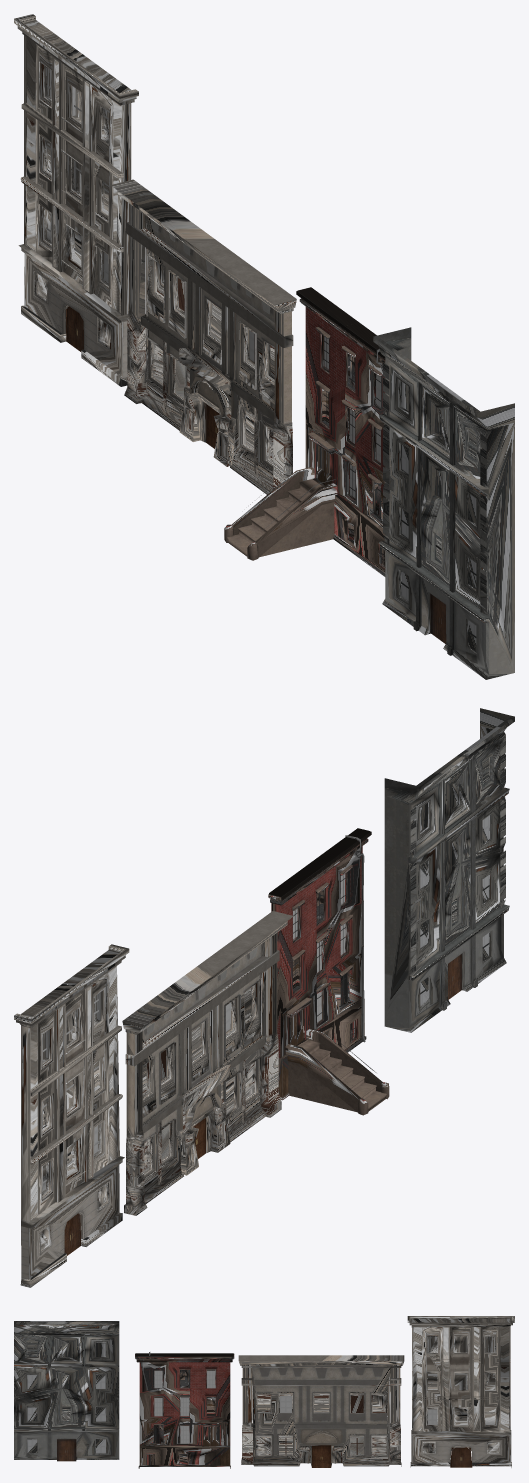
Rendered from buildings_front.glb.
The picture shows the model from 3 angles, top to bottom: view 1: azimuth 30°, elevation 25°; view 2: azimuth 150°, elevation 25°; view 3: azimuth 270°, elevation 25°; orthographic projection. The views are drawn at different scales.
Size of the model in its own units: 9.63 by 27.68 by 84.19.
4 materials, 4 textured.
